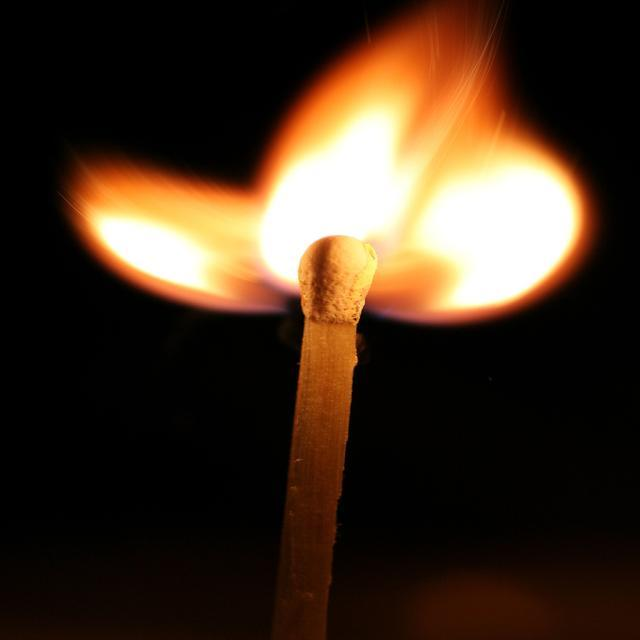Fire: (268, 104, 552, 298), (106, 194, 264, 292)
